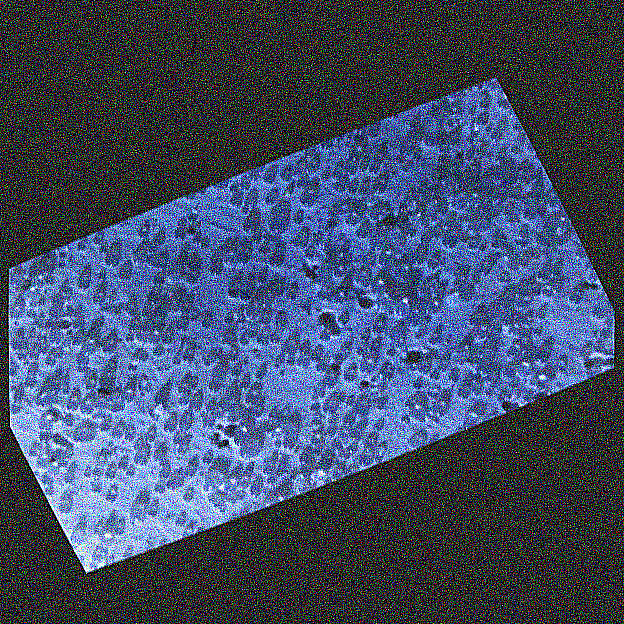GrassBeadSeg: (128, 312, 411, 520), (204, 264, 410, 483), (281, 218, 477, 423), (156, 258, 349, 417), (199, 210, 333, 396), (436, 152, 543, 382), (218, 383, 383, 513), (173, 319, 302, 479), (201, 242, 318, 391), (348, 153, 490, 263), (64, 410, 222, 484), (14, 369, 211, 427), (255, 228, 404, 301), (21, 239, 99, 366), (188, 342, 309, 422), (314, 285, 425, 370), (98, 495, 244, 553), (438, 189, 485, 347), (412, 381, 543, 437), (426, 264, 518, 343), (106, 484, 214, 550), (321, 123, 453, 175), (124, 304, 309, 341), (13, 278, 61, 420), (348, 163, 453, 227), (302, 309, 348, 454), (293, 314, 429, 362), (360, 227, 527, 266), (270, 398, 353, 476), (498, 250, 585, 324), (478, 189, 506, 415), (408, 343, 468, 447), (324, 153, 419, 217), (393, 300, 495, 359), (275, 354, 345, 439), (133, 442, 222, 508), (417, 285, 519, 337), (277, 347, 467, 374), (373, 185, 439, 262), (450, 339, 530, 402), (164, 263, 244, 323), (67, 246, 155, 300), (91, 444, 142, 535), (324, 363, 415, 414), (537, 310, 603, 380), (121, 468, 194, 529), (251, 352, 319, 416), (39, 431, 134, 476), (59, 412, 104, 502), (400, 146, 434, 259), (266, 267, 344, 314), (383, 387, 440, 449), (375, 322, 522, 346), (318, 399, 501, 418), (410, 201, 465, 264), (385, 228, 420, 326), (226, 414, 275, 484), (112, 481, 176, 534), (442, 195, 506, 247), (129, 473, 220, 509), (468, 174, 525, 231), (282, 390, 322, 471), (541, 287, 587, 356), (472, 330, 540, 375), (249, 157, 380, 180), (76, 308, 120, 372), (520, 285, 562, 352), (496, 173, 540, 235), (97, 250, 155, 297), (64, 417, 100, 492), (461, 151, 517, 199), (235, 442, 282, 499), (329, 144, 406, 178), (497, 275, 578, 307), (337, 402, 382, 458), (489, 233, 565, 266), (229, 316, 279, 364), (21, 247, 106, 275), (20, 243, 98, 273), (153, 357, 245, 381), (67, 296, 115, 342), (424, 256, 471, 301), (155, 249, 266, 268), (453, 256, 523, 286), (223, 486, 303, 512), (200, 206, 248, 249), (318, 176, 345, 250), (387, 331, 447, 364), (469, 128, 522, 165), (370, 302, 434, 332), (447, 157, 471, 237), (390, 246, 436, 287), (114, 498, 183, 525), (206, 463, 251, 503), (186, 379, 209, 457), (478, 253, 546, 279), (212, 319, 255, 359), (212, 466, 253, 506), (258, 218, 276, 306), (484, 80, 503, 162), (359, 319, 429, 341), (227, 417, 280, 446), (246, 422, 271, 482), (9, 404, 49, 441), (193, 469, 235, 504), (10, 282, 43, 324), (408, 101, 458, 128), (43, 405, 91, 433), (406, 226, 437, 269), (320, 126, 374, 149), (426, 276, 460, 312), (514, 294, 550, 328), (528, 301, 604, 317), (14, 383, 54, 413), (240, 164, 263, 214), (126, 462, 164, 492), (468, 176, 528, 195), (378, 152, 448, 168), (490, 242, 508, 304), (72, 446, 109, 476), (355, 124, 490, 132), (127, 358, 210, 371), (140, 335, 159, 391), (286, 442, 341, 461), (23, 325, 52, 361), (501, 355, 546, 378), (343, 339, 402, 356), (485, 98, 522, 125), (326, 415, 357, 446), (463, 335, 495, 365), (391, 264, 410, 314), (428, 225, 441, 297), (311, 394, 342, 424), (104, 364, 132, 397), (473, 323, 499, 358), (476, 361, 517, 383), (303, 146, 384, 157), (470, 277, 522, 294), (551, 273, 597, 292), (385, 371, 418, 397), (495, 380, 535, 401), (412, 330, 517, 338), (147, 322, 186, 343), (274, 314, 325, 330), (502, 254, 537, 277), (351, 407, 418, 419), (546, 238, 586, 258), (63, 469, 88, 501), (507, 263, 539, 288), (498, 145, 519, 183), (543, 266, 560, 312), (190, 454, 209, 495), (317, 330, 364, 346), (454, 153, 504, 168), (336, 309, 393, 322), (270, 423, 287, 466), (374, 382, 384, 455), (256, 315, 282, 343), (332, 316, 347, 362), (155, 492, 191, 511), (366, 338, 384, 376), (415, 127, 491, 136), (192, 235, 217, 262), (356, 184, 377, 216), (351, 191, 410, 202), (355, 229, 427, 238), (322, 361, 354, 381), (441, 187, 478, 204), (543, 315, 612, 324), (446, 137, 473, 160), (110, 366, 154, 380), (237, 235, 259, 263), (367, 210, 435, 219), (311, 238, 345, 256), (450, 196, 464, 239), (428, 370, 443, 410), (446, 120, 472, 143), (90, 484, 97, 569), (284, 467, 338, 478), (471, 263, 490, 293), (69, 409, 102, 426), (410, 402, 438, 422), (335, 416, 358, 440), (484, 334, 530, 346), (448, 153, 484, 168), (90, 413, 109, 441), (409, 215, 475, 223), (311, 161, 355, 173), (381, 306, 393, 350), (531, 307, 579, 318), (32, 288, 67, 303), (196, 383, 214, 412), (63, 341, 83, 367), (345, 167, 365, 193), (519, 285, 538, 312), (88, 529, 101, 568), (368, 344, 385, 373), (437, 387, 491, 396), (477, 83, 495, 110), (456, 373, 479, 394), (35, 385, 58, 406), (146, 507, 183, 520), (210, 244, 247, 257), (411, 371, 439, 388), (213, 408, 260, 418), (9, 367, 22, 403), (558, 268, 597, 280), (261, 457, 290, 473), (506, 346, 528, 367), (12, 392, 45, 406), (271, 459, 294, 479), (404, 365, 415, 406), (134, 356, 179, 366), (107, 391, 144, 403), (230, 241, 247, 267), (411, 394, 433, 414), (405, 208, 427, 228), (452, 143, 485, 156), (350, 346, 367, 371), (510, 377, 535, 394), (303, 139, 328, 156), (310, 443, 342, 456), (516, 363, 548, 376), (86, 468, 132, 477), (357, 160, 403, 169), (333, 267, 344, 304), (429, 217, 449, 237), (62, 450, 106, 459), (283, 403, 316, 415), (408, 406, 443, 417), (178, 418, 213, 429), (435, 335, 446, 370), (420, 372, 456, 382), (244, 318, 252, 363), (498, 310, 520, 326), (335, 432, 348, 459), (258, 314, 277, 332), (494, 169, 525, 180), (519, 350, 547, 362), (319, 443, 356, 452), (507, 190, 537, 201), (510, 298, 528, 316), (479, 232, 496, 251), (38, 295, 70, 305), (57, 257, 67, 289), (535, 235, 564, 246), (103, 469, 115, 495), (385, 332, 398, 356), (507, 288, 523, 307), (479, 380, 516, 388), (419, 227, 437, 243), (307, 162, 338, 171), (405, 213, 417, 236), (366, 165, 377, 190), (357, 432, 372, 450), (420, 334, 450, 343), (125, 313, 136, 337), (527, 179, 539, 201), (471, 239, 500, 248), (470, 377, 490, 390), (73, 426, 90, 441), (370, 422, 381, 444), (201, 352, 221, 364), (370, 251, 400, 259), (234, 479, 247, 497), (356, 419, 382, 428), (77, 245, 106, 253), (435, 191, 445, 214), (268, 221, 287, 233), (342, 416, 367, 425), (475, 107, 488, 124), (471, 164, 526, 168), (410, 121, 421, 141), (66, 249, 84, 261), (466, 110, 474, 137), (275, 468, 296, 478), (399, 414, 425, 422), (592, 334, 608, 347), (165, 470, 175, 490), (267, 414, 317, 418), (353, 125, 364, 143), (321, 399, 335, 413), (502, 391, 530, 398), (242, 219, 257, 232), (344, 212, 359, 225), (131, 250, 146, 263), (104, 252, 119, 265), (101, 340, 116, 353), (81, 341, 96, 354), (75, 276, 90, 289), (244, 392, 259, 405), (221, 399, 236, 412), (281, 342, 296, 355), (358, 360, 373, 373), (320, 374, 335, 387), (376, 252, 391, 265), (314, 272, 329, 285), (293, 234, 308, 247), (354, 271, 369, 284), (370, 281, 385, 294), (57, 452, 70, 467), (308, 344, 320, 360), (459, 239, 483, 247), (113, 305, 132, 315), (355, 128, 378, 136), (269, 253, 283, 266), (300, 193, 314, 206), (369, 236, 383, 249), (48, 329, 62, 342), (31, 274, 44, 288), (22, 288, 36, 301), (35, 456, 49, 469), (152, 449, 166, 462), (311, 467, 325, 480), (352, 403, 366, 416), (188, 398, 202, 411), (212, 367, 226, 380), (233, 432, 247, 445), (375, 295, 389, 308), (393, 156, 419, 163), (271, 362, 284, 376), (245, 304, 260, 316), (238, 444, 253, 456), (162, 419, 177, 431), (112, 460, 127, 472), (263, 331, 281, 341), (424, 210, 444, 219), (372, 149, 384, 164), (269, 411, 285, 422), (158, 469, 168, 486), (133, 452, 147, 464), (99, 532, 113, 544), (222, 480, 236, 492), (356, 453, 370, 465), (295, 354, 309, 366), (69, 531, 83, 543), (467, 314, 481, 326), (472, 326, 486, 338), (455, 386, 469, 398), (237, 251, 250, 263), (447, 293, 460, 305), (417, 361, 430, 373), (37, 419, 51, 430), (489, 129, 503, 140), (226, 286, 240, 297), (294, 476, 305, 490), (258, 237, 267, 254), (449, 103, 474, 109), (451, 352, 463, 364), (485, 373, 497, 385), (554, 360, 567, 371), (521, 208, 534, 219), (423, 135, 436, 146), (372, 181, 385, 192), (332, 180, 345, 191), (349, 150, 362, 161), (295, 177, 308, 188), (264, 193, 277, 204), (244, 195, 257, 206), (262, 171, 275, 182), (292, 164, 305, 175), (229, 195, 242, 206), (239, 289, 252, 300), (146, 292, 159, 303), (164, 301, 177, 312), (398, 199, 411, 210), (9, 307, 20, 319), (568, 292, 580, 303), (536, 268, 548, 279), (553, 219, 565, 230), (544, 196, 556, 207), (92, 293, 104, 304), (79, 403, 91, 414), (40, 474, 52, 485), (270, 428, 282, 439), (271, 286, 283, 297), (514, 235, 527, 245), (209, 264, 222, 274), (185, 273, 198, 283), (152, 309, 165, 319), (89, 551, 102, 561), (415, 408, 425, 421), (58, 253, 74, 261), (47, 465, 58, 476), (92, 466, 103, 477), (249, 486, 260, 497), (172, 434, 183, 445), (303, 248, 314, 259), (254, 368, 265, 379), (199, 317, 210, 328), (104, 407, 115, 418), (476, 203, 488, 213), (152, 275, 164, 285), (76, 355, 88, 365), (58, 503, 70, 513), (336, 284, 348, 294), (255, 272, 267, 282), (292, 213, 304, 223), (280, 169, 292, 179), (71, 318, 81, 330), (604, 324, 614, 336), (29, 299, 44, 307), (332, 457, 339, 473), (36, 322, 52, 329), (119, 269, 130, 279), (48, 308, 59, 318), (262, 464, 273, 474), (323, 426, 334, 436), (176, 384, 187, 394), (286, 289, 297, 299), (239, 179, 250, 189), (185, 225, 196, 235), (151, 345, 161, 356), (126, 321, 137, 331), (134, 330, 145, 340), (208, 380, 219, 390), (226, 350, 237, 360), (220, 333, 231, 343), (238, 334, 249, 344), (65, 399, 76, 409), (527, 321, 538, 331), (362, 256, 372, 267), (529, 252, 547, 258), (465, 239, 477, 248), (334, 395, 351, 401), (223, 253, 233, 263), (299, 453, 309, 463), (283, 438, 293, 448), (122, 431, 132, 441), (177, 395, 187, 405), (229, 182, 239, 192), (174, 229, 184, 239), (186, 211, 196, 221), (153, 234, 163, 244), (138, 227, 148, 237), (161, 333, 171, 343), (136, 350, 146, 360), (182, 351, 192, 361), (180, 304, 190, 314), (85, 380, 95, 390), (239, 378, 249, 388), (230, 366, 240, 376), (224, 313, 234, 323), (70, 335, 80, 345), (37, 332, 47, 342), (506, 325, 516, 335), (17, 349, 26, 360), (10, 339, 21, 348), (501, 206, 512, 215), (280, 356, 294, 363), (250, 167, 264, 174), (43, 486, 53, 495), (310, 435, 319, 445), (176, 445, 186, 454), (104, 492, 114, 501), (140, 307, 150, 316), (99, 422, 109, 431), (53, 347, 62, 357), (45, 356, 55, 365), (27, 365, 36, 375), (28, 350, 38, 359), (37, 344, 46, 354), (25, 309, 35, 318), (28, 447, 37, 457), (190, 239, 208, 244), (426, 411, 438, 418), (143, 432, 152, 441), (24, 378, 33, 387), (520, 315, 529, 324), (501, 274, 510, 283), (509, 146, 518, 155), (516, 163, 525, 172), (511, 122, 520, 131), (110, 429, 119, 437), (122, 392, 130, 401), (597, 328, 605, 337), (533, 310, 542, 318), (497, 301, 506, 309), (263, 456, 274, 462), (124, 306, 135, 312), (428, 281, 436, 289), (578, 350, 585, 359), (311, 393, 317, 403), (587, 349, 601, 353), (109, 398, 113, 411), (104, 442, 112, 448)
